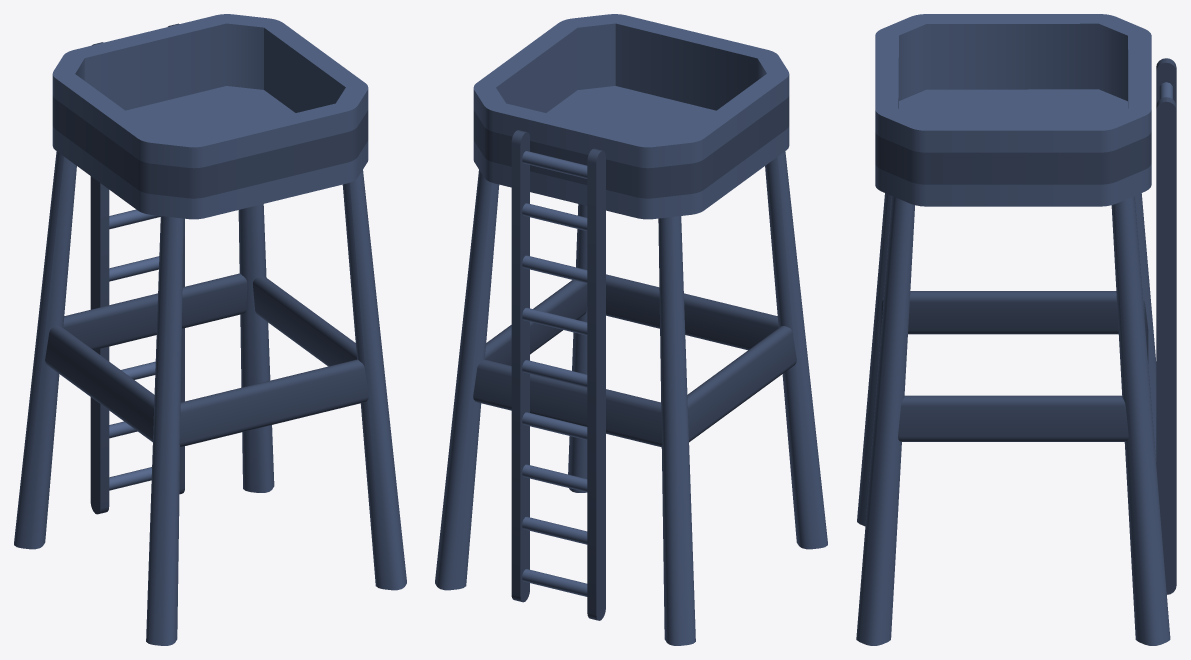
Rendered from choi canh gac.fbx.
3 views of the same model, side by side, from view 1: azimuth 30°, elevation 25°; view 2: azimuth 150°, elevation 25°; view 3: azimuth 270°, elevation 25° (orthographic). The views are drawn at different scales.
Visible parts, largest first — view 1: choi_canh_gac; view 2: choi_canh_gac; view 3: choi_canh_gac.
Part boxes in pixels (x1,y1,x2,y2): choi_canh_gac: [14, 14, 406, 645]; choi_canh_gac: [435, 14, 827, 645]; choi_canh_gac: [856, 14, 1176, 645].
Size of the model in its own units: 325 by 581 by 332.
